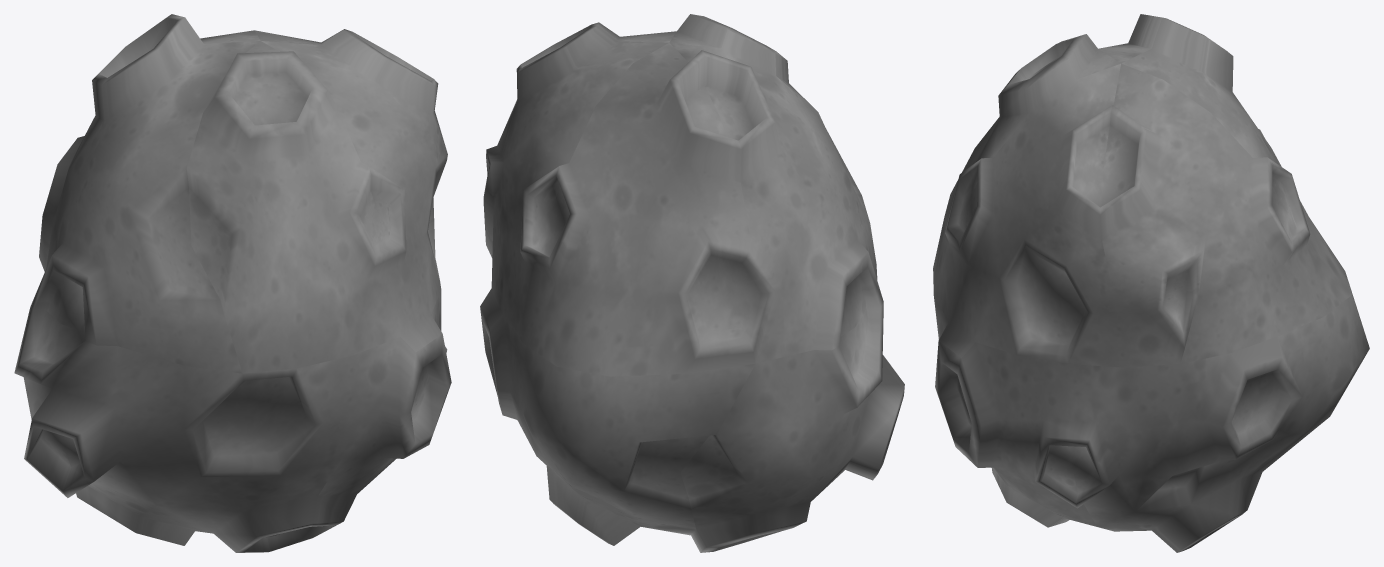
File: Meteors.fbx
The picture shows the model from 3 angles, left to right: view 1: azimuth 30°, elevation 25°; view 2: azimuth 150°, elevation 25°; view 3: azimuth 270°, elevation 25°; orthographic projection. The views are drawn at different scales.
Parts seen in each view (by area): view 1: Asteroid2; view 2: Asteroid2; view 3: Asteroid2.
Part boxes in pixels (<box>): Asteroid2: <box>14,14,451,552</box>; Asteroid2: <box>480,14,904,552</box>; Asteroid2: <box>933,14,1369,552</box>.
Bounding box in the file's own units: 279 × 343 × 274.
